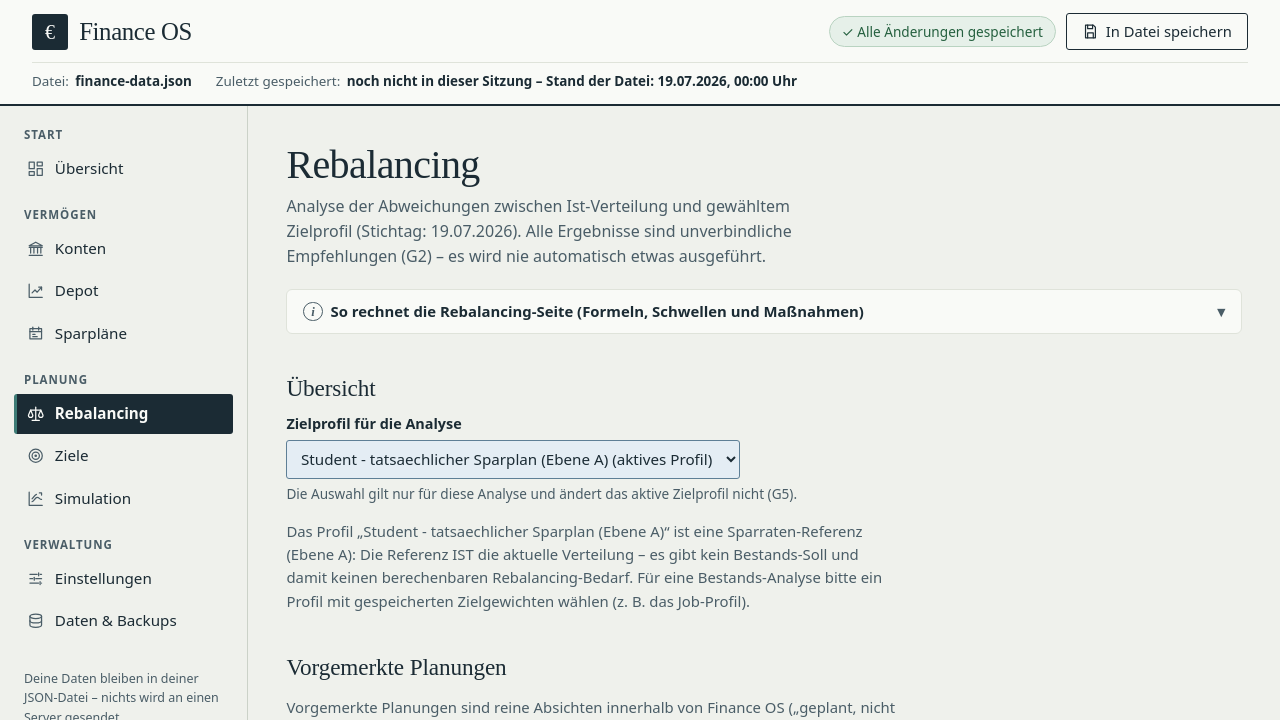
Test: RebalancingPage – Leerzustände je Profiltyp › ungültige Gewichtssumme → Fehlermeldung am Profil, KEINE Rechnung (F21)
Select "Eigene Aufteilung" in the dropdown labelled "Zielprofil für die Analyse": (513, 459) x1=286 y1=440 x2=740 y2=478
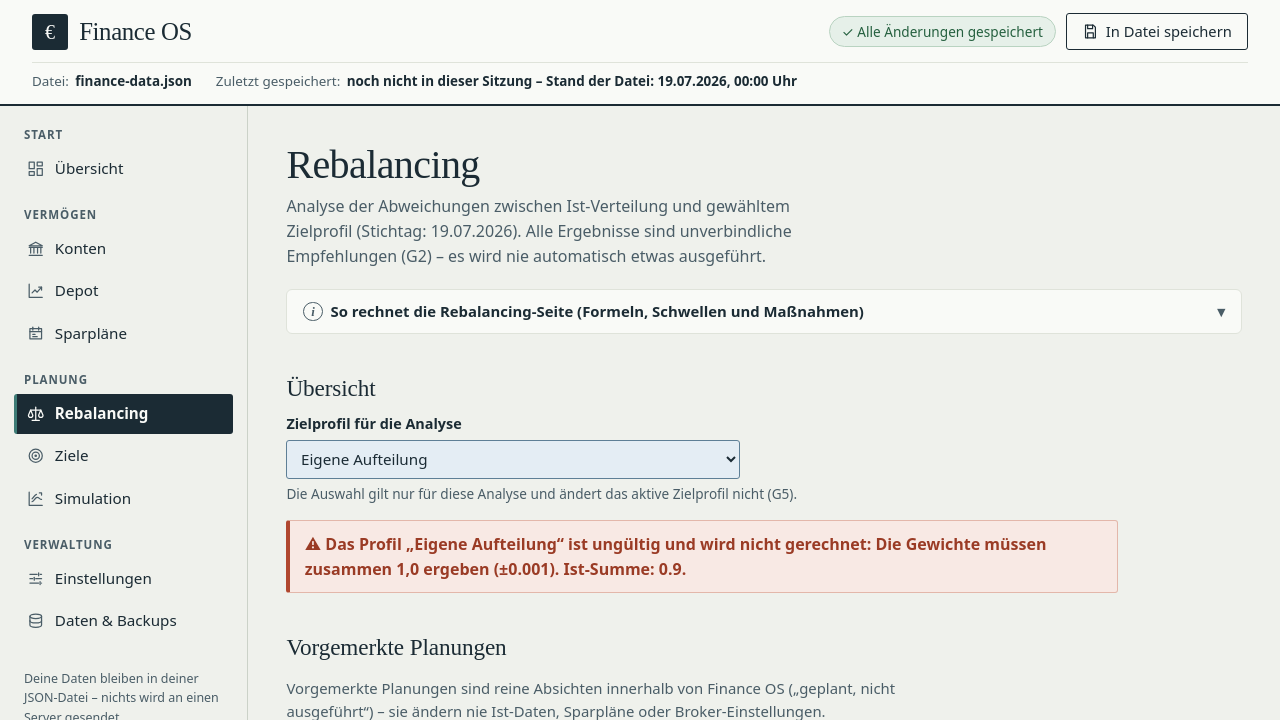
Expected: the message that starts with "⚠ Das Profil „" shows "ungültig", x1=557 y1=533 x2=871 y2=555
Expected: the message that starts with "⚠ Das Profil „" shows "0.9", x1=305 y1=533 x2=1046 y2=580
